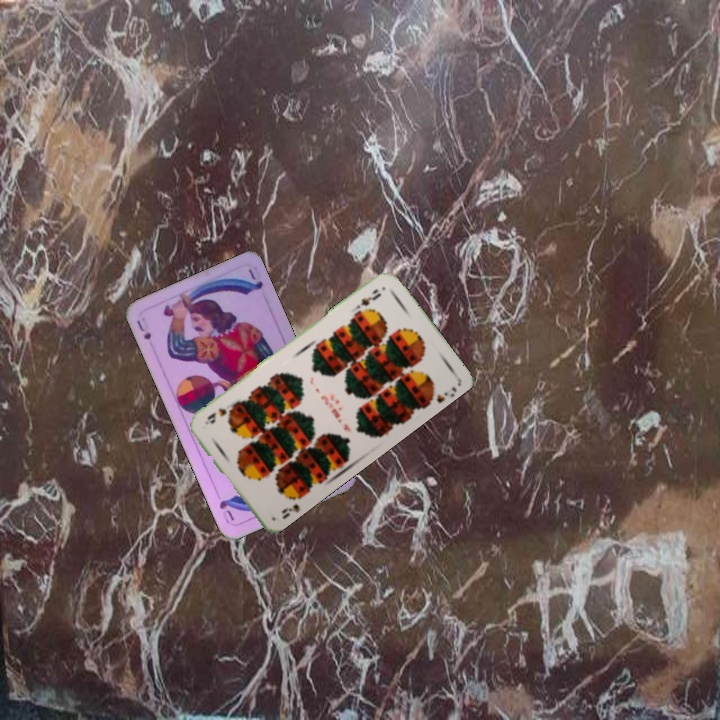S9: (277, 491, 306, 522), (357, 285, 384, 308)
SU: (132, 316, 154, 343)
